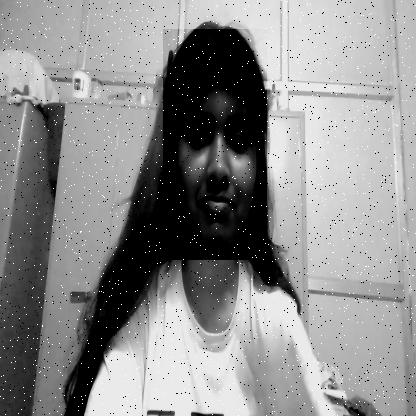Normal: (163, 29, 267, 260)
